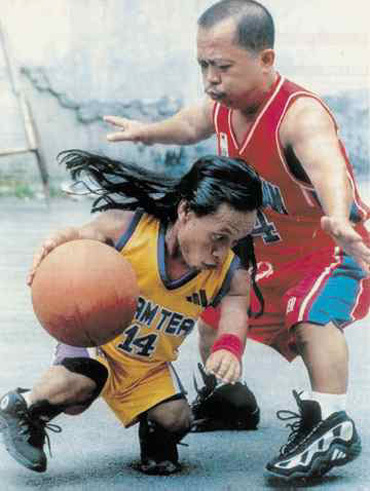basketball: (31, 241, 137, 345)
